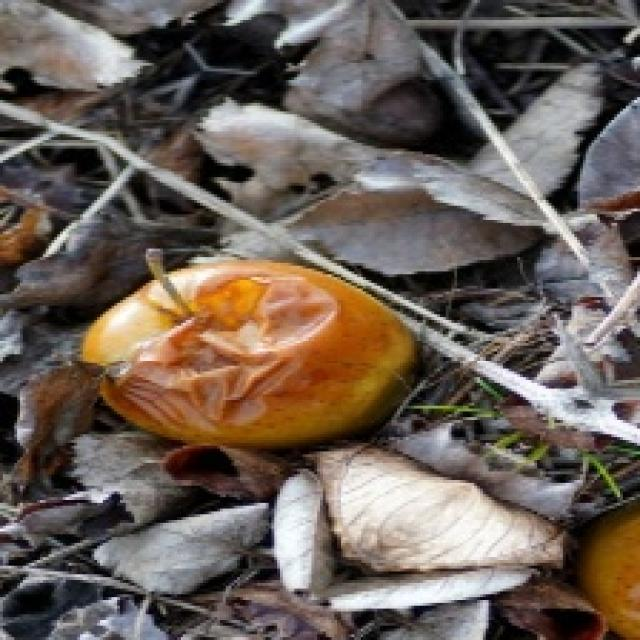rotten_apple: (86, 260, 409, 440)
